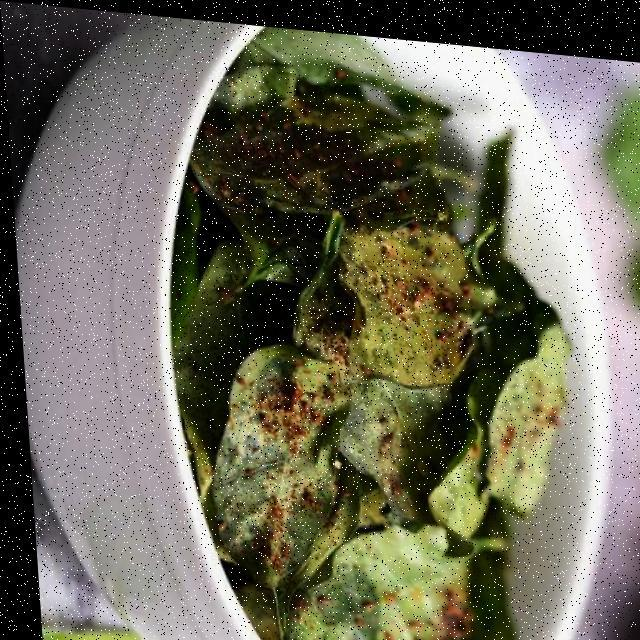Spinach: (165, 13, 600, 640)
